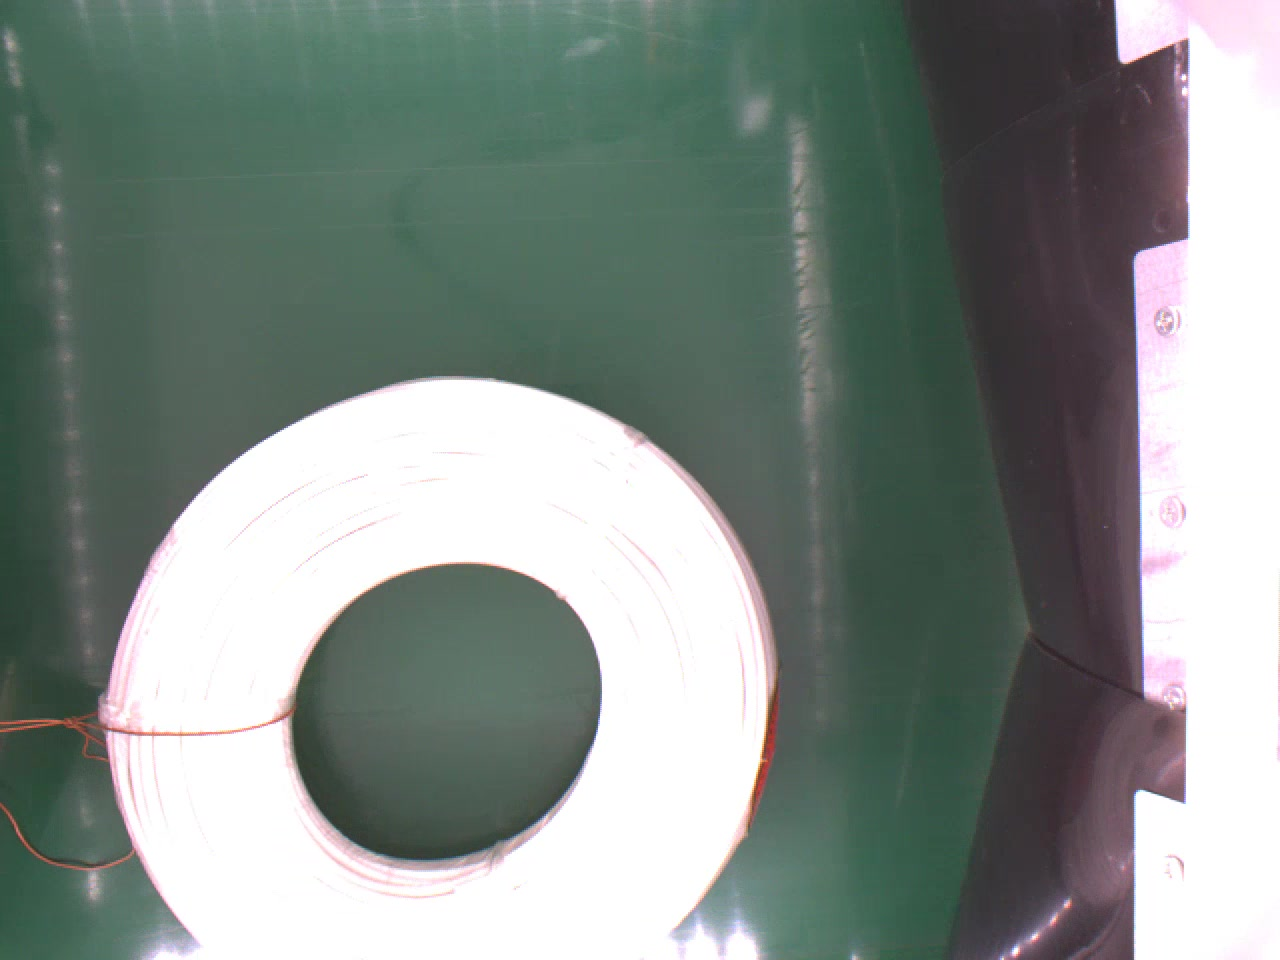white: (108, 382, 781, 960)
